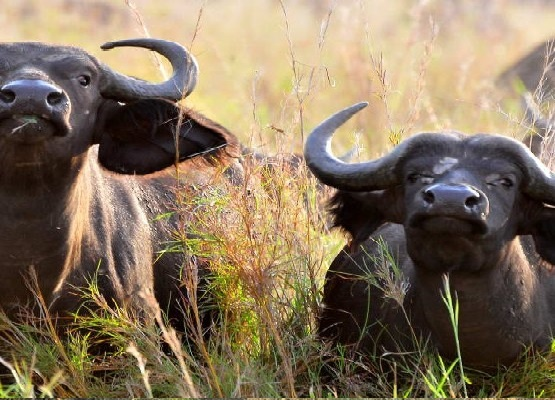buffalo: (1, 31, 333, 398), (301, 97, 555, 387)
